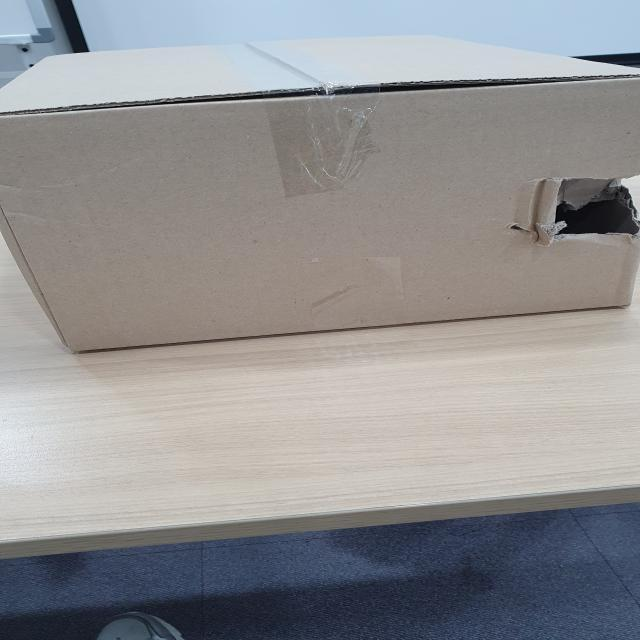hole: (534, 164, 640, 242)
